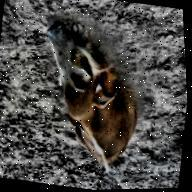boar: (18, 0, 176, 187)
